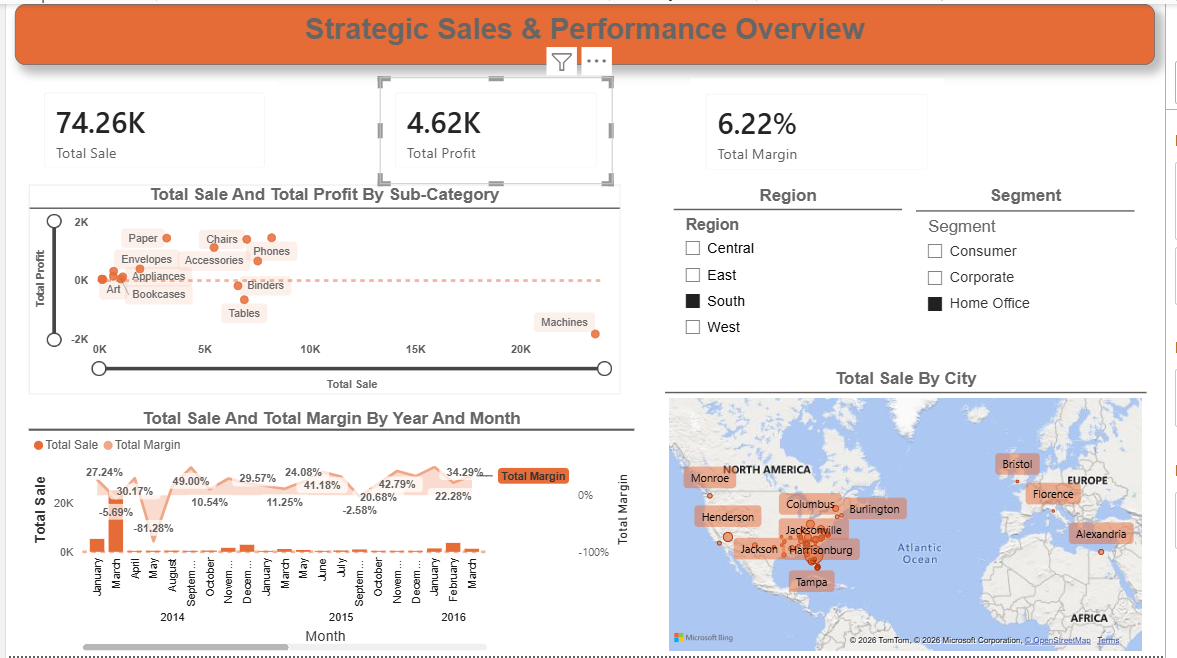

What the dashboard file says about the page in this screenshot:
{"tool":"powerbi","page":{"name":"Page 1","canvas":[1280,720],"ordinal":0},"visuals":[{"type":"lineClusteredColumnComboChart","title":"Total Sale And Total Margin By Year And Month","fields":{"Category":["Sample - Superstore.Order Date.Variation.Date Hierarchy.Year","Sample - Superstore.Order Date.Variation.Date Hierarchy.Month"],"Y":["Sample - Superstore.Total Sale"],"Y2":["Sample - Superstore.Total Margin"]},"box":[25.1,447.9,668.3,272.1],"z":0},{"type":"map","title":"Total Sale By City","fields":{"Category":["Sample - Superstore.City"],"Size":["Sample - Superstore.Total Sale"]},"box":[726.9,403.2,531.6,316.7],"z":1000},{"type":"scatterChart","title":"Total Sale And Total Profit By Sub-Category","fields":{"Category":["Sample - Superstore.Sub-Category"],"X":["Sample - Superstore.Total Sale"],"Y":["Sample - Superstore.Total Profit"]},"box":[25.1,199.5,653,231.6],"z":2000},{"type":"slicer","title":"Region","fields":{"Values":["Sample - Superstore.Region"]},"box":[737.3,200.7,252.3,178.4],"z":3000},{"type":"slicer","title":"Segment","fields":{"Values":["Sample - Superstore.Segment"]},"box":[1004.9,200.7,241.1,178.4],"z":4000},{"type":"textbox","box":[9.8,0,1258.5,67],"z":5000},{"type":"cardVisual","fields":{"Data":["Sample - Superstore.Total Sale"]},"box":[25.1,80.8,278.7,118.5],"z":6000},{"type":"cardVisual","fields":{"Data":["Sample - Superstore.Total Profit"]},"box":[412.5,80.8,257.8,118.5],"z":7000},{"type":"cardVisual","fields":{"Data":["Sample - Superstore.Total Margin"]},"box":[755.4,82.2,280.1,118.5],"z":8000}]}

Visuals, with their boxes in screenshot pixels (x1, y1, x2, y2), scaled from the page's 1280x720 canvas onto the 1177x658 screenshot:
"Total Sale And Total Margin By Year And Month" lineClusteredColumnComboChart: x1=23 y1=409 x2=638 y2=657
"Total Sale By City" map: x1=668 y1=368 x2=1157 y2=657
"Total Sale And Total Profit By Sub-Category" scatterChart: x1=23 y1=182 x2=624 y2=394
"Region" slicer: x1=678 y1=183 x2=910 y2=346
"Segment" slicer: x1=924 y1=183 x2=1146 y2=346
textbox: x1=9 y1=0 x2=1166 y2=61
cardVisual - Sample - Superstore.Total Sale: x1=23 y1=74 x2=279 y2=182
cardVisual - Sample - Superstore.Total Profit: x1=379 y1=74 x2=616 y2=182
cardVisual - Sample - Superstore.Total Margin: x1=695 y1=75 x2=952 y2=183
